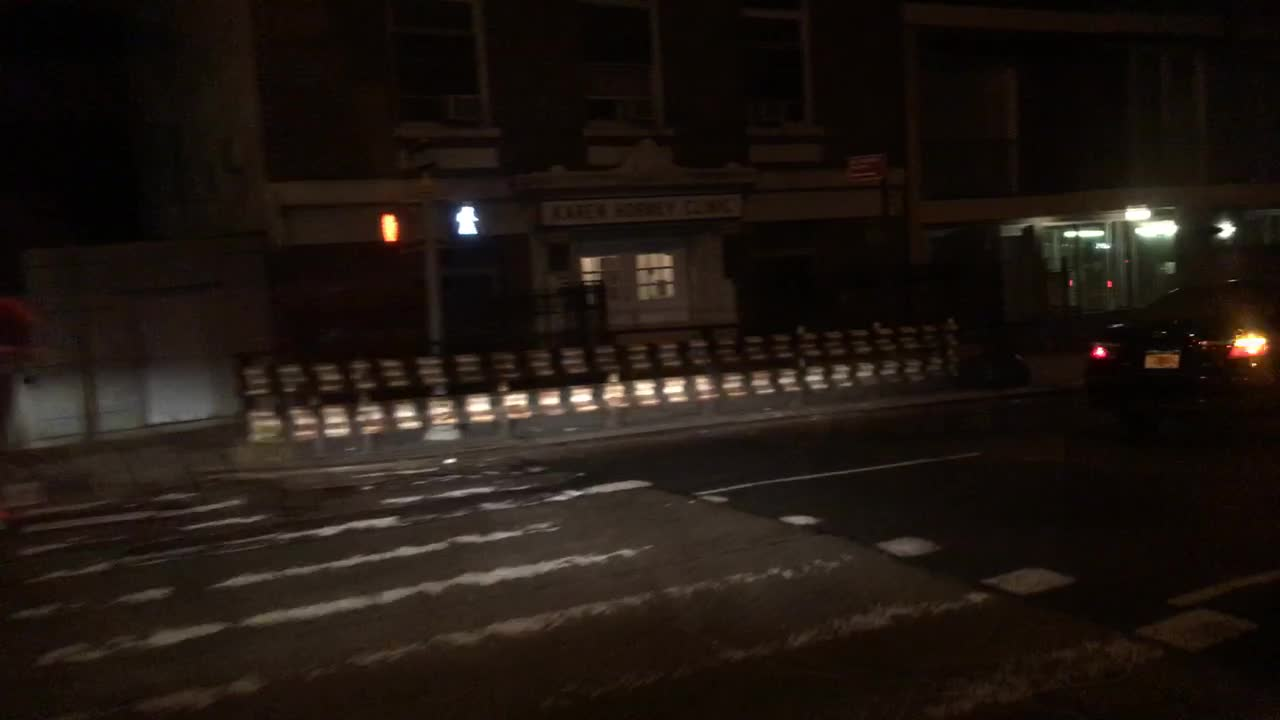car: (1081, 273, 1277, 426)
traffic light: (450, 202, 485, 238), (376, 209, 401, 243)
traffic sign: (845, 153, 886, 183)
truck: (0, 0, 256, 509)
